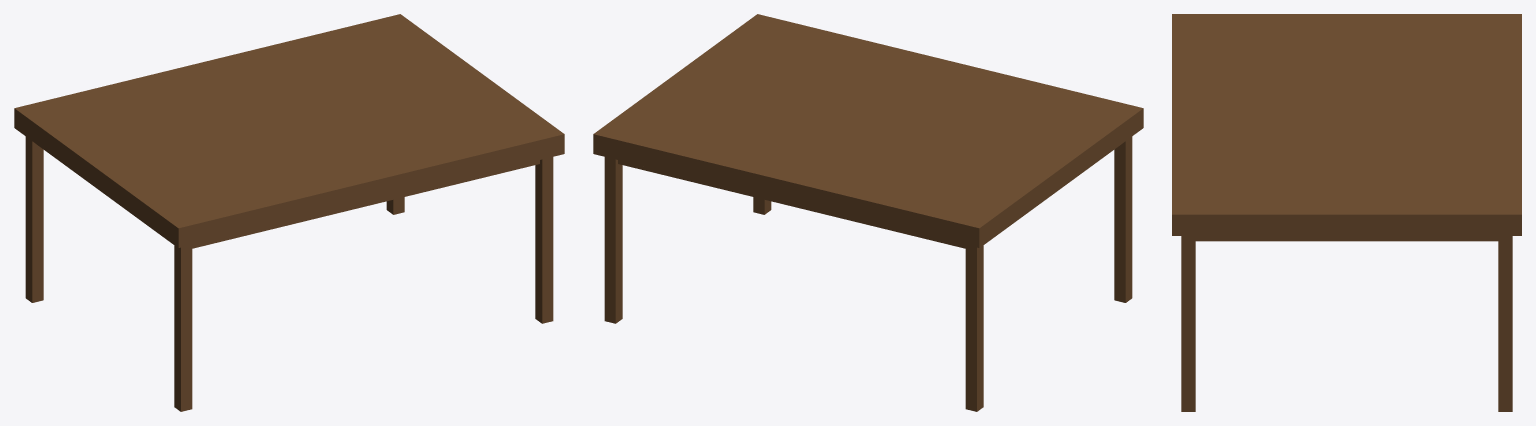
File: square table.fbx
The picture shows the model from 3 angles, left to right: view 1: azimuth 30°, elevation 25°; view 2: azimuth 150°, elevation 25°; view 3: azimuth 270°, elevation 25°; orthographic projection. The views are drawn at different scales.
Visible parts, largest first — view 1: Cube; view 2: Cube; view 3: Cube.
Part boxes in pixels (<box>): Cube: <box>14,14,564,411</box>; Cube: <box>593,14,1143,411</box>; Cube: <box>1172,14,1521,411</box>.
Bounding box in the file's own units: 815 × 380 × 600.
